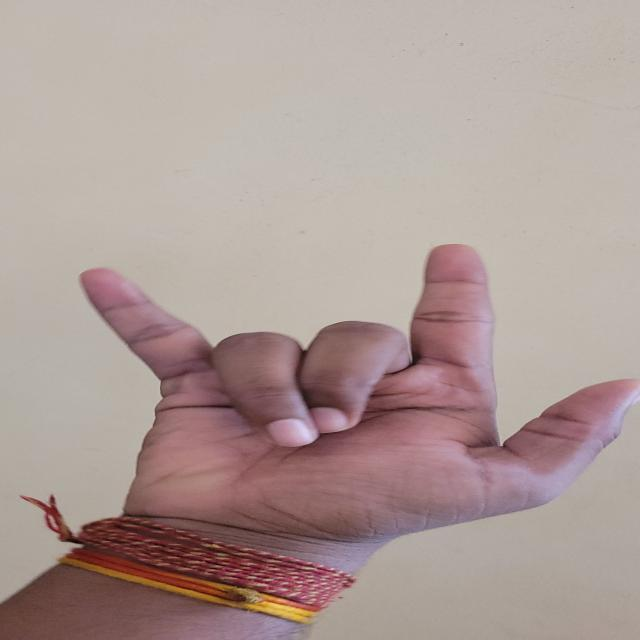i like you: (1, 229, 628, 584)
